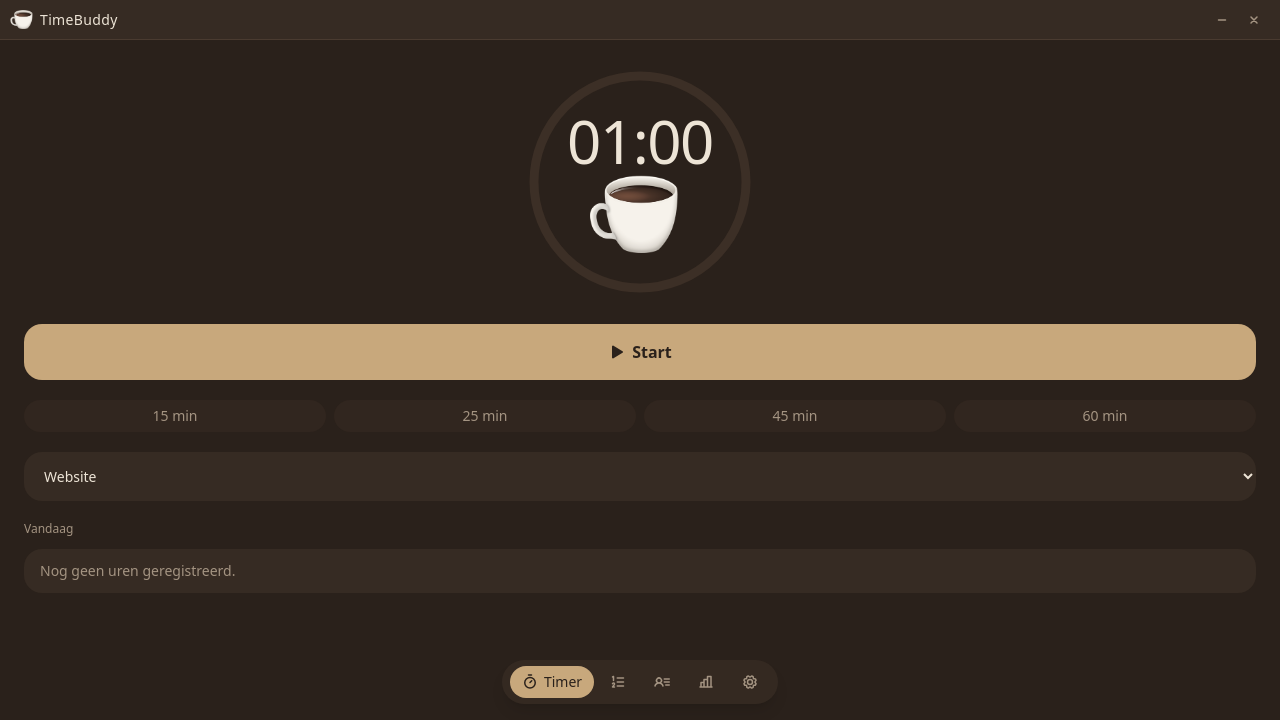
Test: a block that runs out while another screen is open › is logged where it ended, without waiting to be looked at
What coordinates should you click on to do the following:
click the button "Start"
I would click on:
 (640, 352)
Its box is [24,324,1256,380].
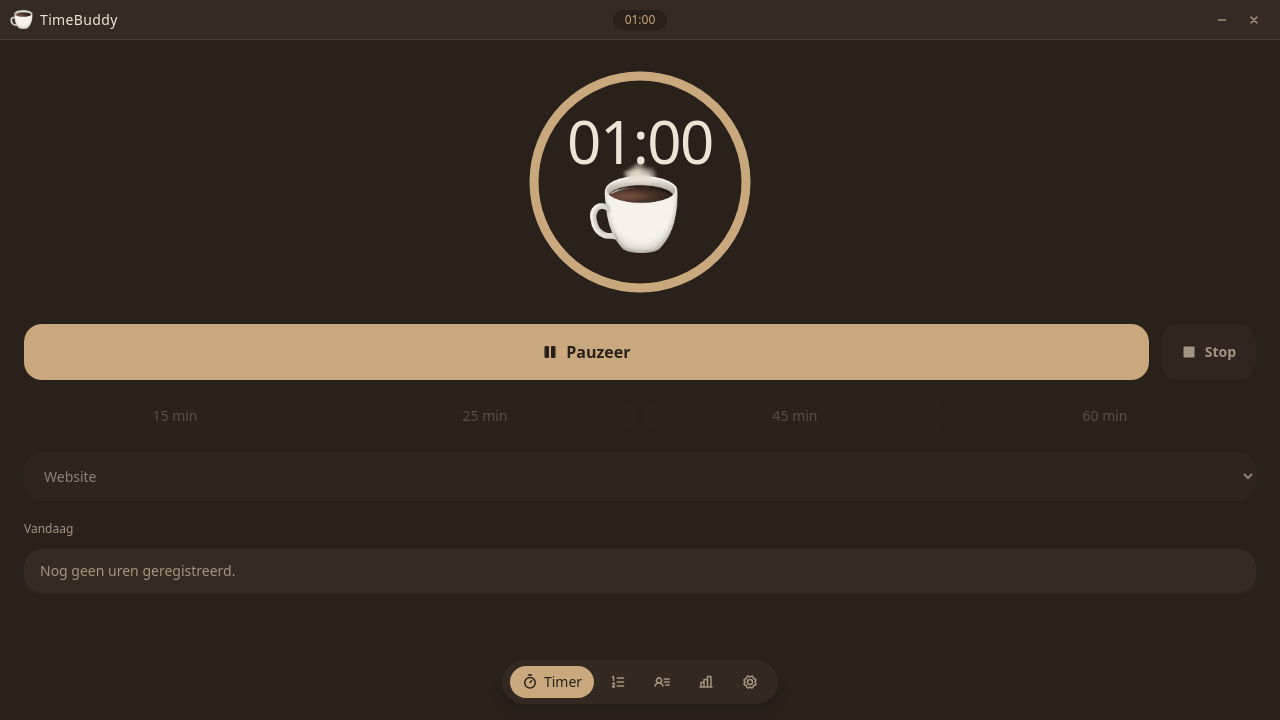
Expected: the button "Stop" is shown, [1161,324,1256,380]
What coordinates should you click on to do the following:
click the tab named "Klanten"
I would click on:
 (662, 682)
Its box is [654,674,670,690].
Wait 60000 ms
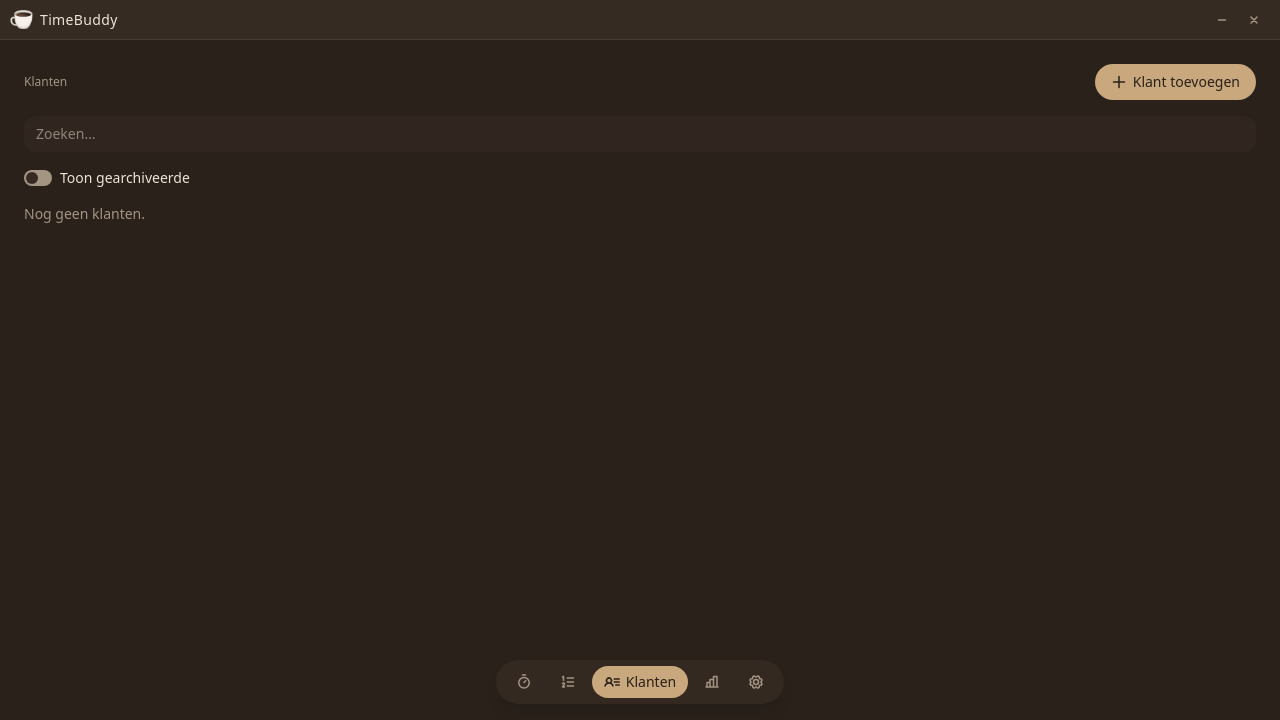
Expected: the heading "Vandaag" is gone
